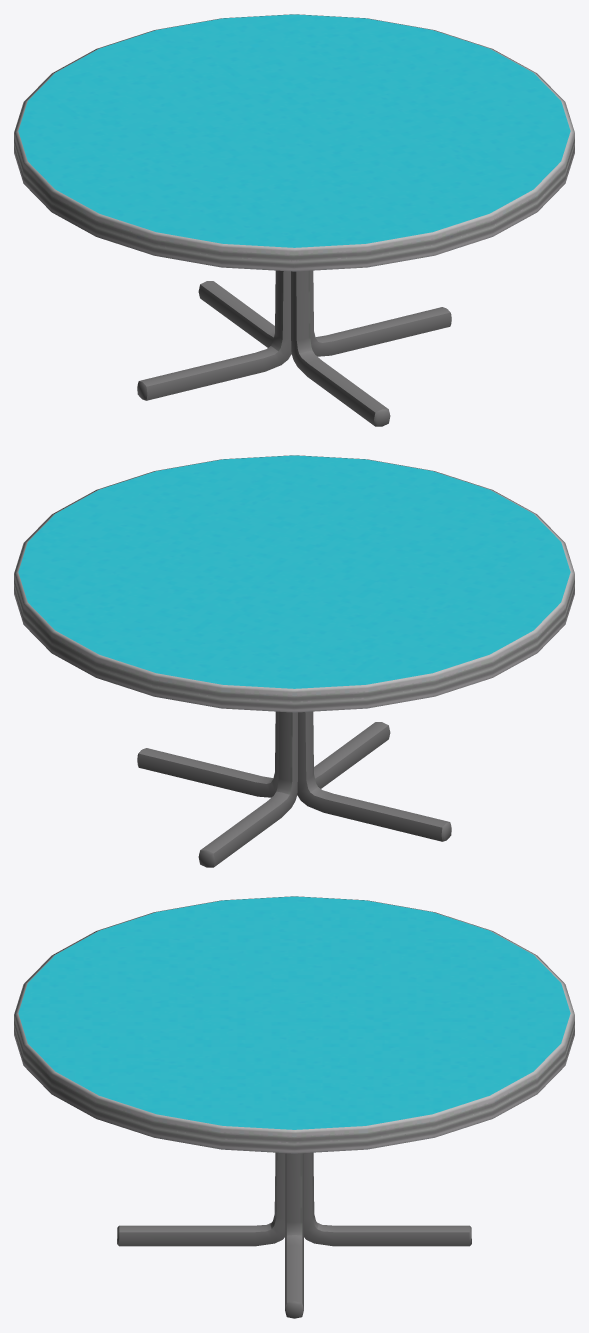
File: table.glb
3 renders of one model, top to bottom at view 1: azimuth 30°, elevation 25°; view 2: azimuth 150°, elevation 25°; view 3: azimuth 270°, elevation 25°, orthographic.
Parts seen in each view (by area): view 1: RecCenter_Cafe_Table_LOD0; view 2: RecCenter_Cafe_Table_LOD0; view 3: RecCenter_Cafe_Table_LOD0.
Boxes of the visible parts, box(x1,y1,x2,y2) form: RecCenter_Cafe_Table_LOD0: box(14, 14, 574, 426); RecCenter_Cafe_Table_LOD0: box(14, 455, 574, 867); RecCenter_Cafe_Table_LOD0: box(14, 896, 574, 1318).
Size of the model in its own units: 1.74 by 0.7934 by 1.74.
Materials: 1 (1 with a texture image).
